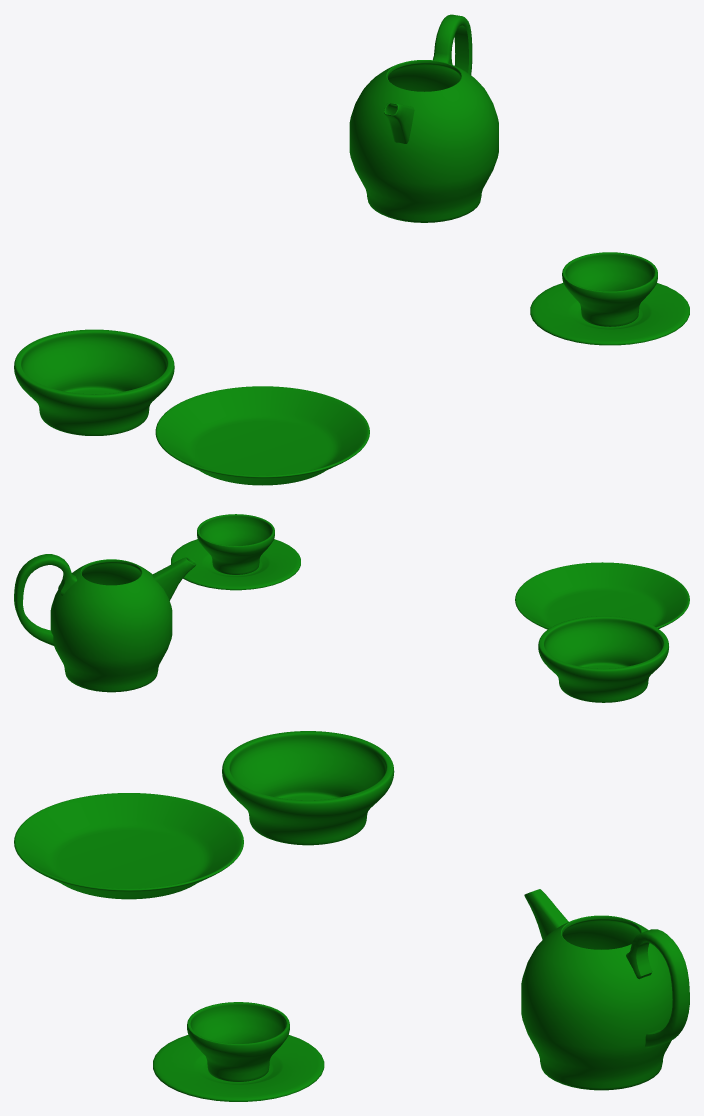
The model's file is Porcelain.FBX.
3 renders of one model, top to bottom at view 1: azimuth 30°, elevation 25°; view 2: azimuth 150°, elevation 25°; view 3: azimuth 270°, elevation 25°, orthographic. The views are drawn at different scales.
Parts seen in each view (by area): view 1: Porcelain Uvs; view 2: Porcelain Uvs; view 3: Porcelain Uvs.
Part boxes in pixels (left/top/right/bottom): Porcelain Uvs: left=14, top=14, right=689, bottom=485; Porcelain Uvs: left=14, top=514, right=689, bottom=702; Porcelain Uvs: left=14, top=731, right=689, bottom=1101.
Size of the model in its own units: 0.6572 by 0.1514 by 0.5767.
